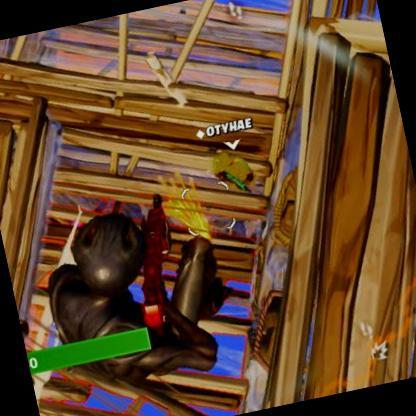person: (212, 148, 247, 188)
